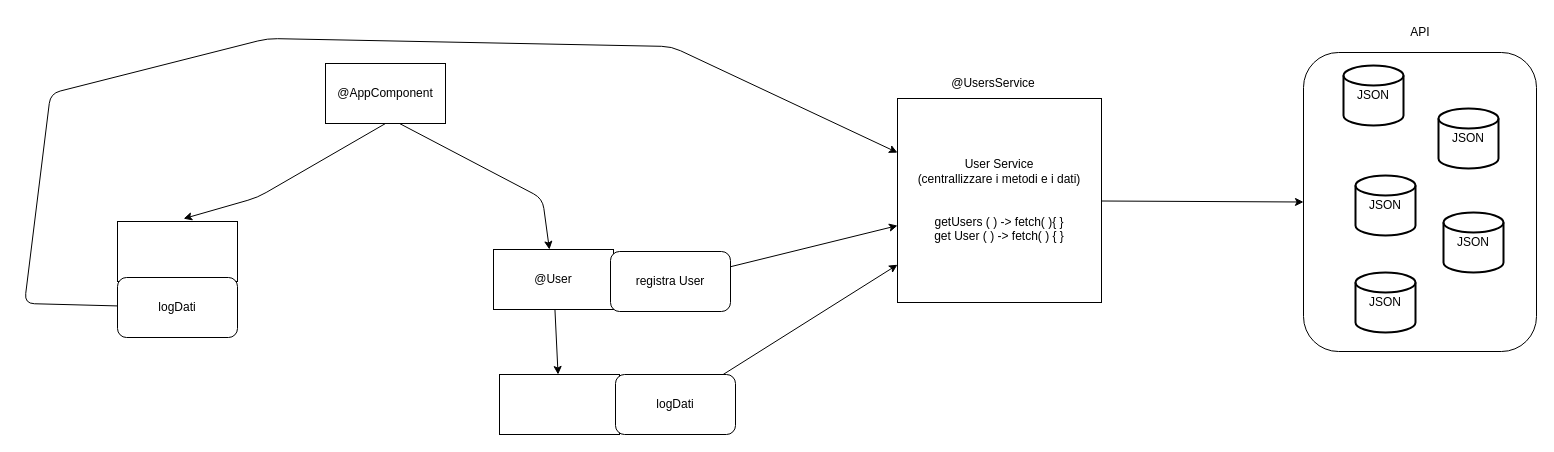
Some shapes in this 1554 by 452 pixel diagram are drawn without their labels. Each missing label, with the centre of its shape:
@ChiSiamo: the point at 177,251
@DettaglioUSer: the point at 559,404
